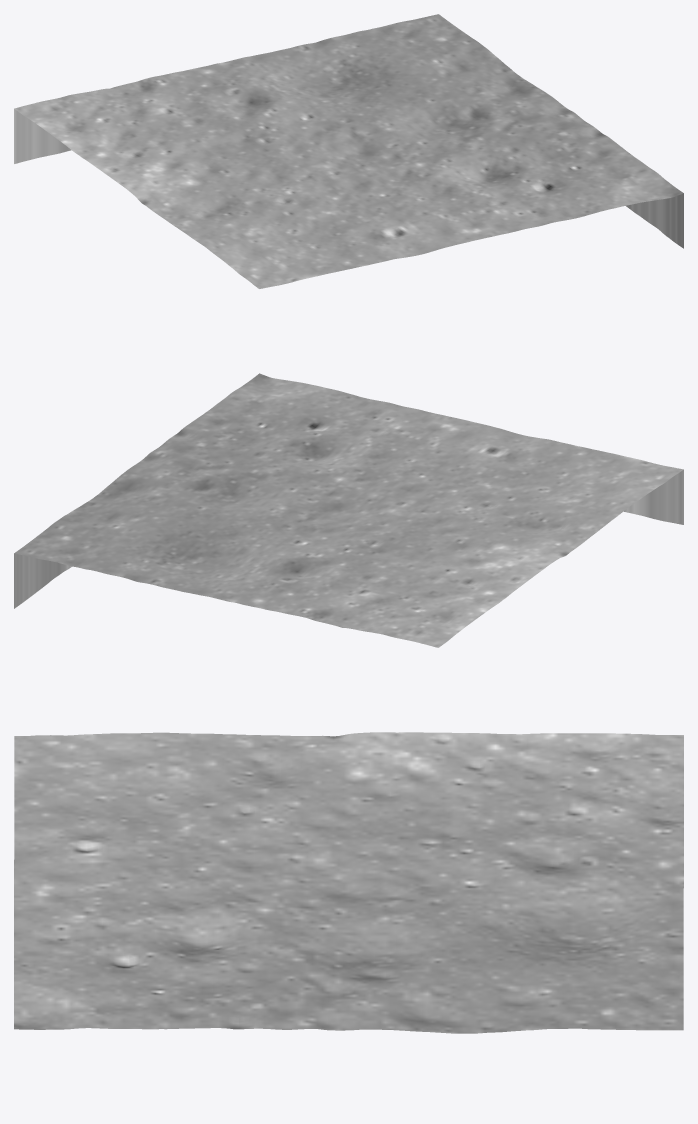
The picture shows the model from 3 angles, top to bottom: view 1: azimuth 30°, elevation 25°; view 2: azimuth 150°, elevation 25°; view 3: azimuth 270°, elevation 25°; orthographic projection. The views are drawn at different scales.
Bounding box in the file's own units: 639 × 99.73 × 639.
Materials: 1 (1 with a texture image).
